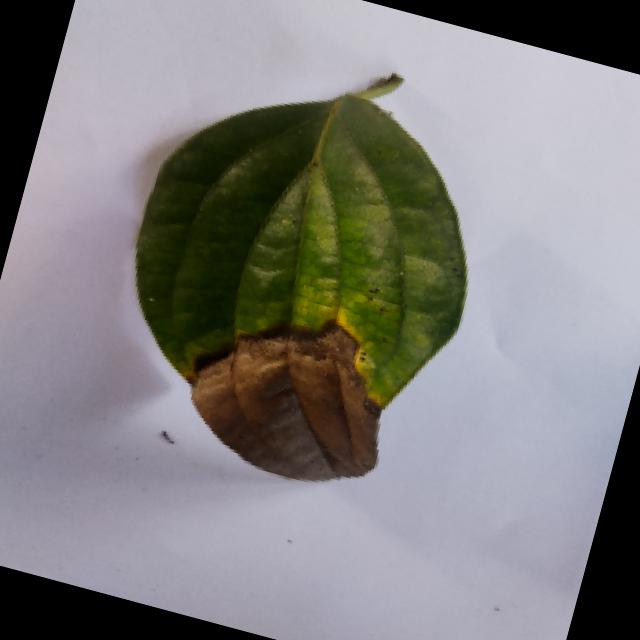footrot: (71, 11, 526, 512)
